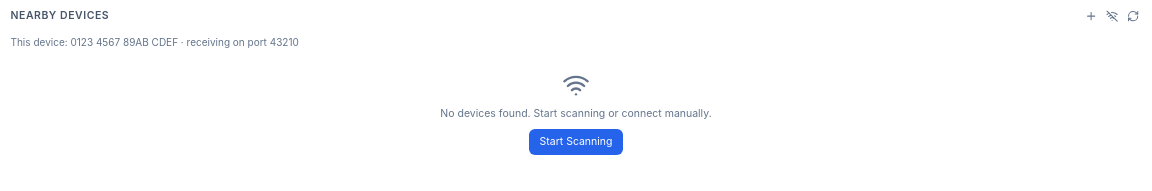
Test case: PeerSidebar › shows this device's fingerprint and discovery errors
Check: the text with test id "peer-local-info" shows "0123 4567 89AB CDEF · receiving on port 43210", box [10,36,299,48]
Click the button "Start Scanning": point(576, 142) [529,129,623,155]
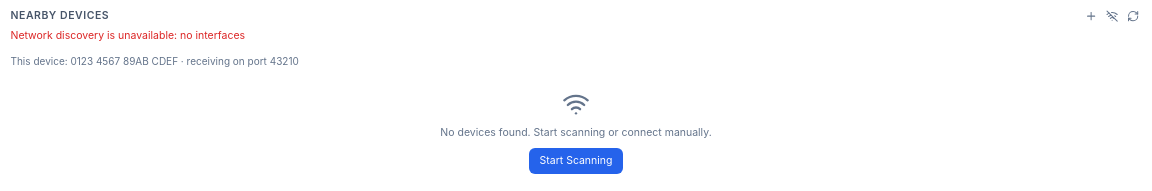
Check: the message shows "Network discovery is unavailable", box [10,29,245,42]
